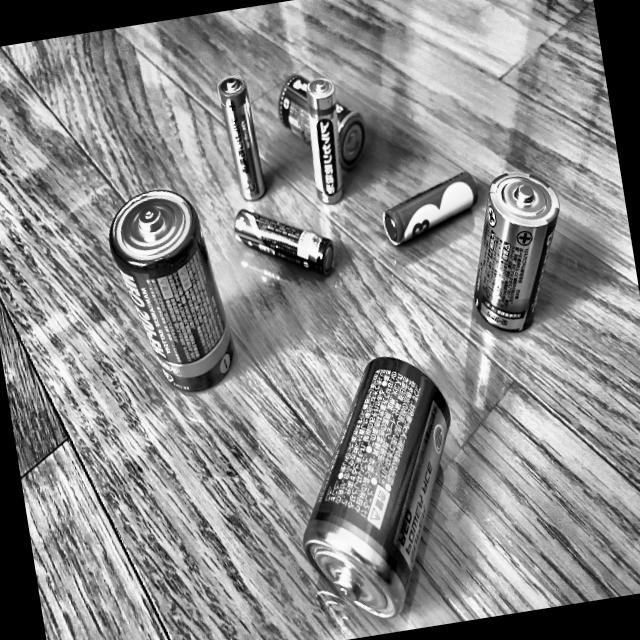drycell: (452, 161, 581, 342), (368, 160, 488, 251)
